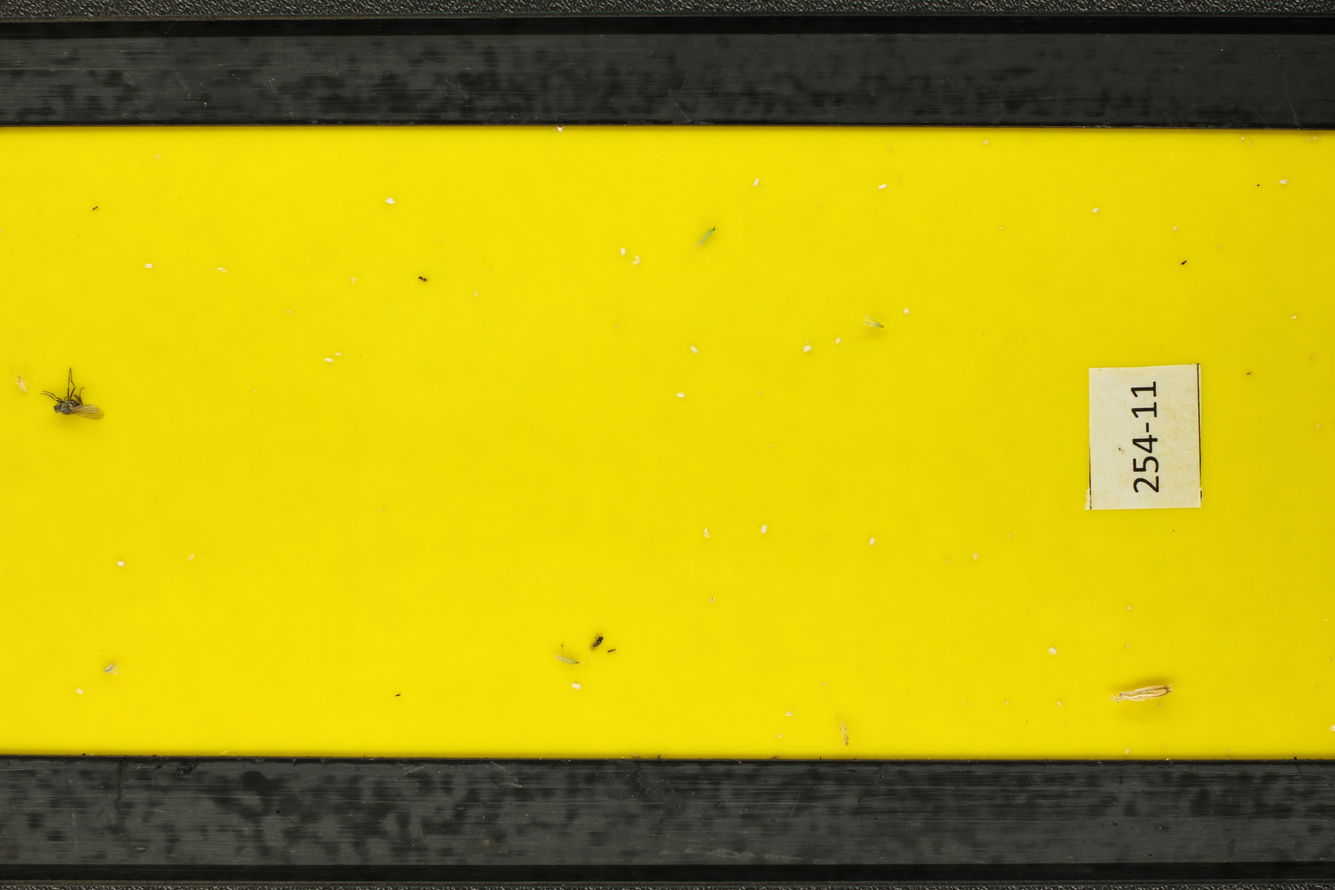MR: (8, 363, 39, 402), (691, 217, 726, 251), (834, 714, 859, 753), (857, 309, 890, 337), (554, 647, 586, 671), (98, 659, 123, 679)
WF: (1276, 174, 1293, 191), (71, 683, 88, 699), (700, 523, 714, 542), (113, 555, 129, 571), (866, 534, 881, 551), (968, 549, 985, 564), (687, 341, 703, 356), (1046, 642, 1061, 658), (568, 680, 585, 694), (757, 521, 771, 537), (752, 173, 765, 190), (185, 549, 198, 566), (383, 194, 398, 208), (141, 259, 157, 272), (833, 332, 846, 348), (798, 343, 815, 355), (783, 707, 797, 721), (552, 124, 569, 135), (615, 245, 629, 258), (900, 305, 914, 318), (674, 387, 689, 399), (1090, 203, 1102, 217), (875, 181, 888, 193), (632, 252, 641, 268), (1005, 531, 1017, 542), (1289, 312, 1300, 323), (708, 595, 719, 606), (774, 731, 785, 742), (216, 266, 228, 276), (1171, 223, 1181, 235), (1001, 697, 1013, 707), (349, 275, 360, 285), (1122, 641, 1133, 651), (981, 139, 992, 148), (1123, 603, 1134, 612), (960, 699, 971, 708), (997, 221, 1006, 232), (1314, 422, 1324, 431), (1055, 699, 1064, 709), (1123, 746, 1134, 754), (323, 357, 335, 364), (283, 309, 293, 316), (335, 352, 346, 358), (152, 154, 163, 160), (1239, 135, 1247, 143), (472, 289, 479, 298)
